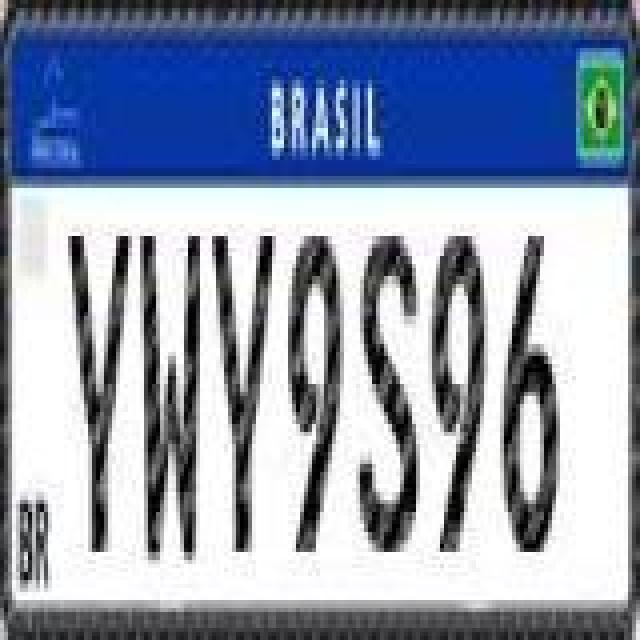6: (496, 220, 560, 556)
9: (284, 230, 348, 554), (430, 224, 490, 560)
S: (356, 224, 420, 560)
W: (134, 228, 202, 572)
Y: (66, 230, 134, 554), (210, 226, 278, 550)
